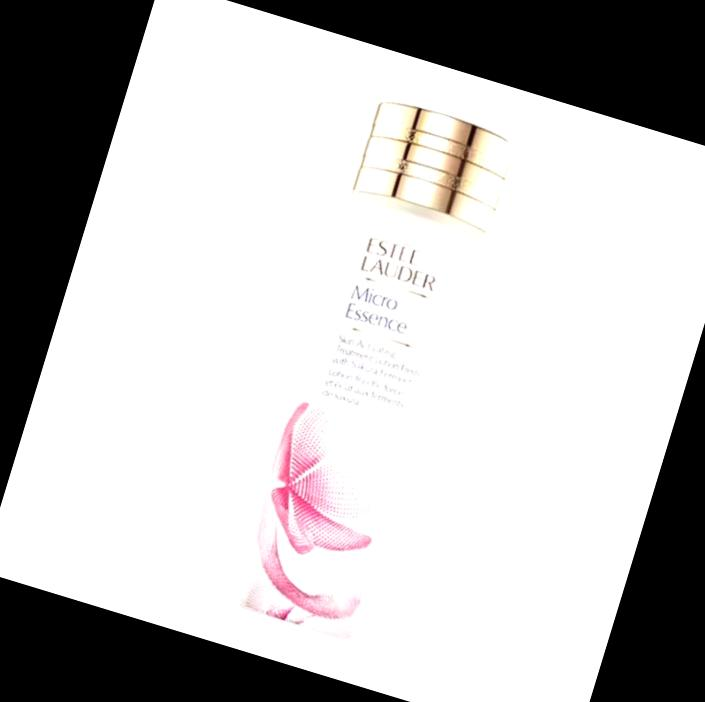cosmetic: (232, 102, 514, 644)
